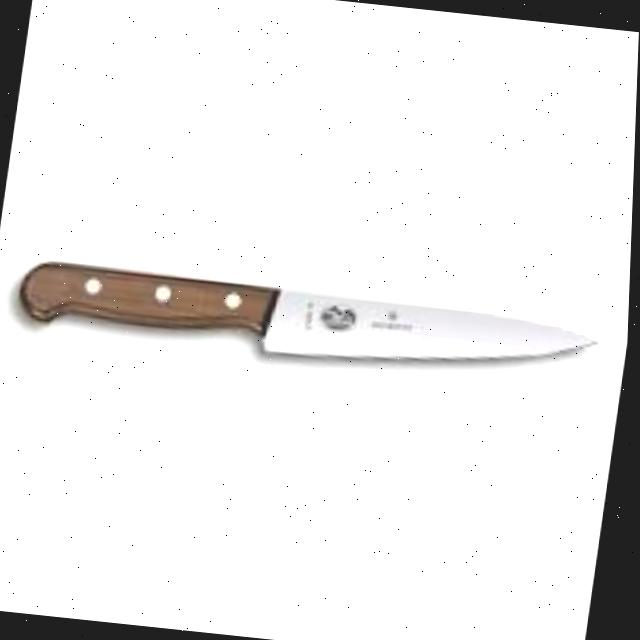Knife: (15, 255, 608, 385)
